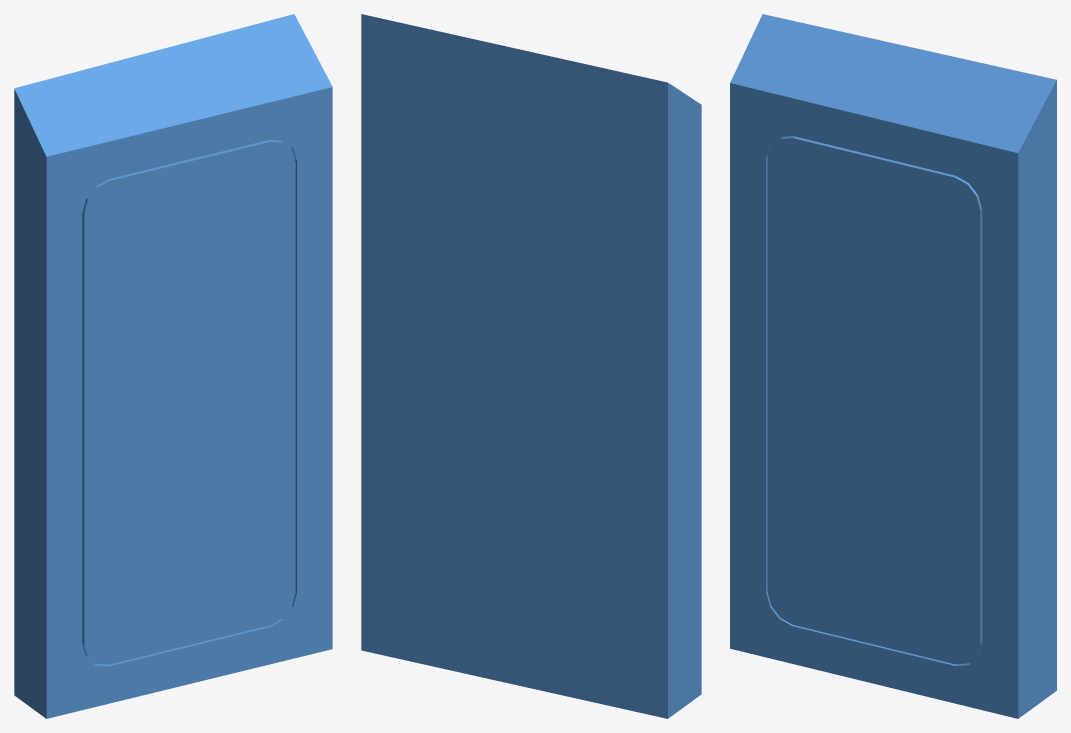
3 views of the same model, side by side, from view 1: azimuth 30°, elevation 25°; view 2: azimuth 150°, elevation 25°; view 3: azimuth 330°, elevation 25° (orthographic). The views are drawn at different scales.
Visible parts, largest first — view 1: Electrical panel; view 2: Electrical panel; view 3: Electrical panel.
Boxes of the visible parts, x1,y1,x2,y2 form: Electrical panel: (14,14,332,718); Electrical panel: (361,14,701,718); Electrical panel: (730,14,1056,718).
Size of the model in its own units: 0.647 by 1.31 by 0.1515.
